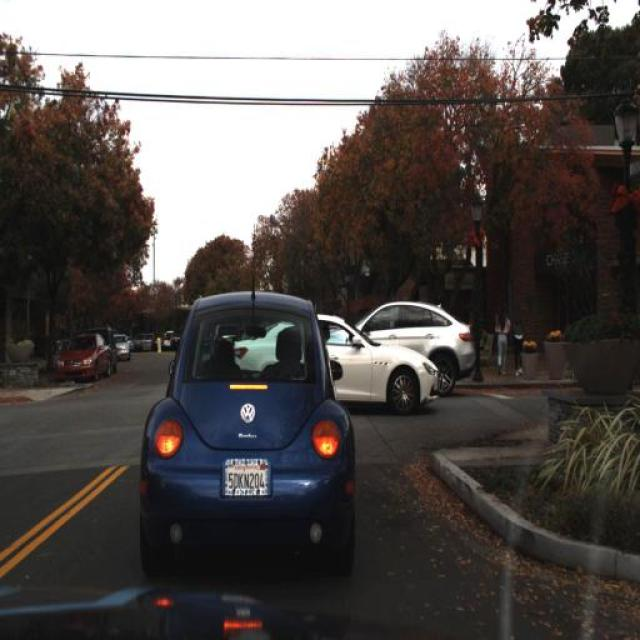car: (137, 270, 362, 572), (275, 315, 440, 420), (353, 290, 477, 390), (52, 331, 112, 382)
trafficLight: (491, 298, 512, 374), (510, 300, 526, 374)
